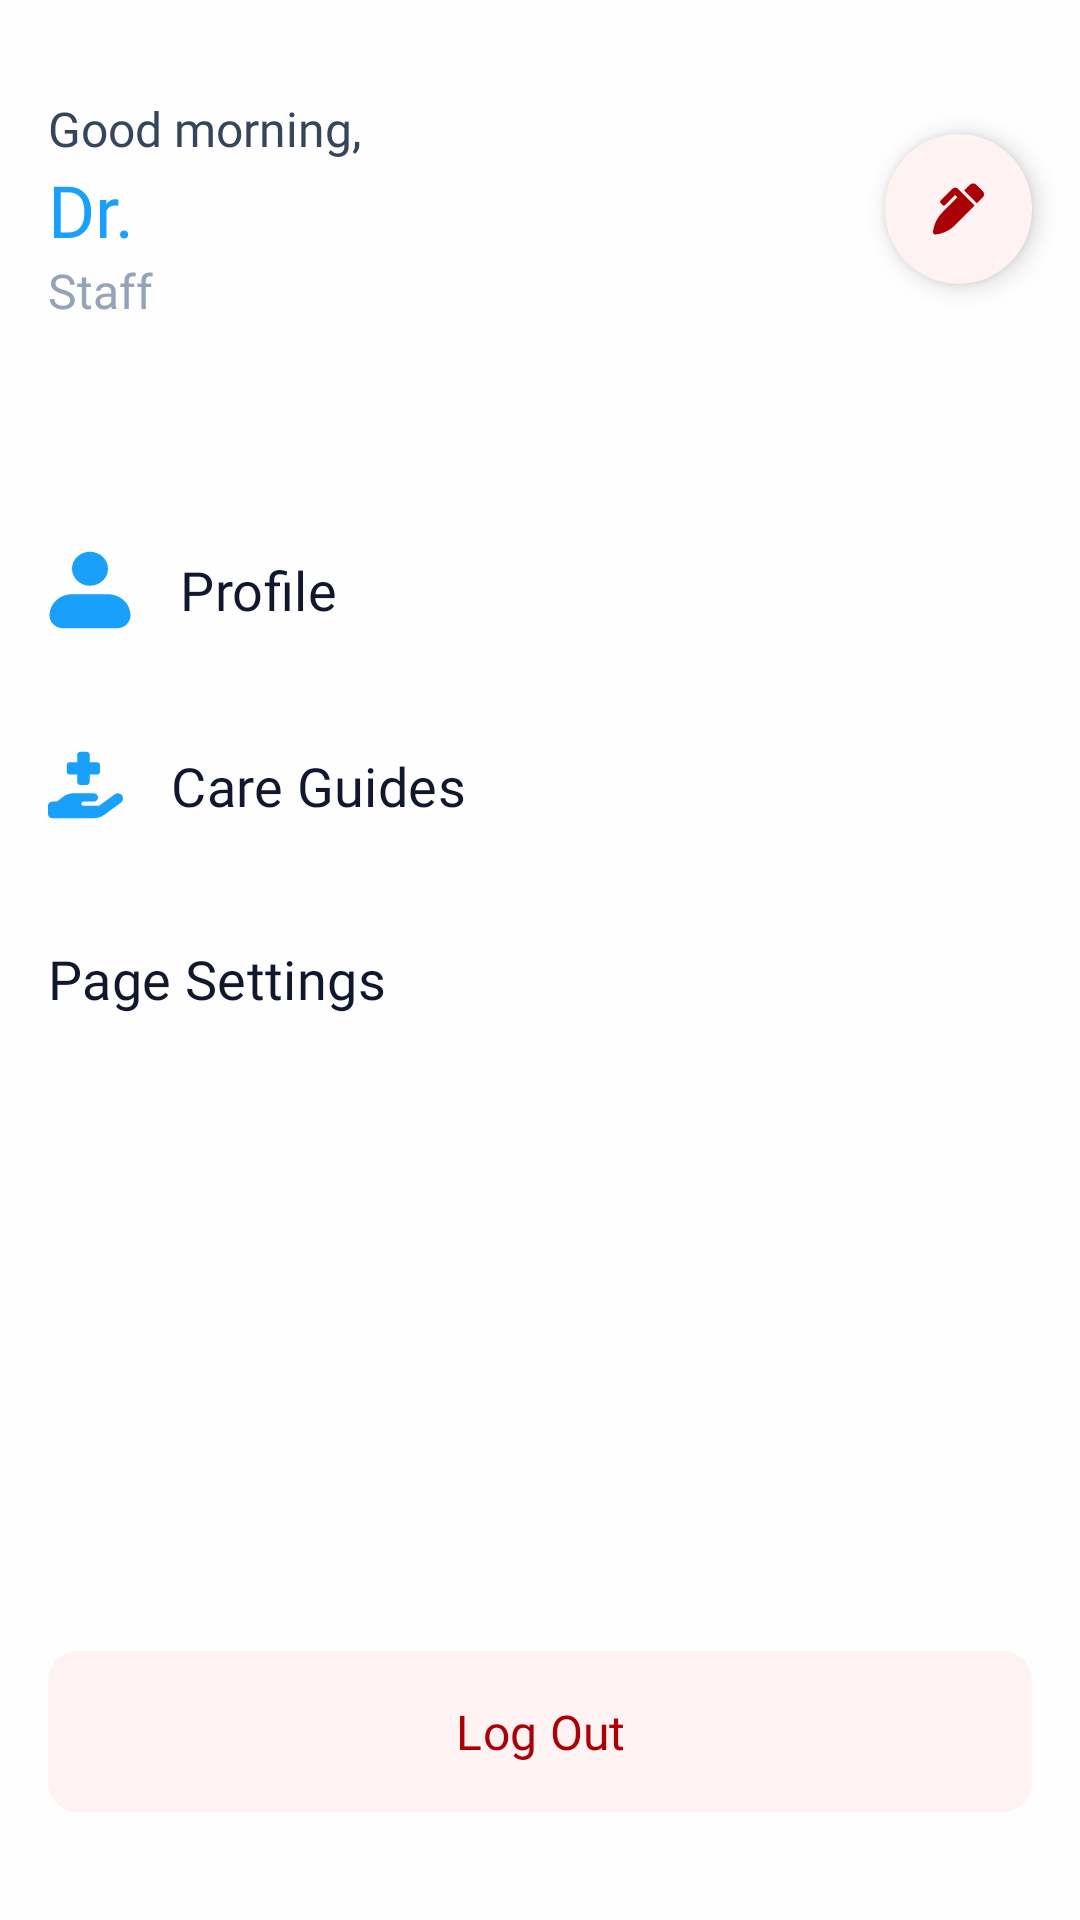

Named icons in this screenshot (1080x1920) and their centers, [x,y]:
pen: [958,209]
